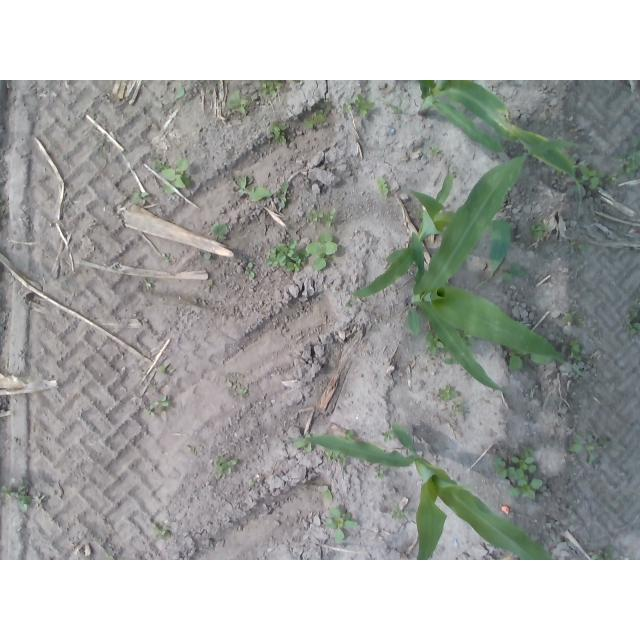Maize: (407, 141, 597, 399), (293, 425, 556, 560), (349, 163, 515, 301), (416, 80, 584, 212)
Weeds: (494, 446, 542, 500), (264, 240, 309, 273), (154, 157, 192, 195), (306, 234, 338, 272), (325, 507, 359, 542), (569, 158, 605, 191), (249, 183, 289, 210), (616, 141, 640, 179), (569, 433, 598, 464), (343, 93, 376, 118), (304, 100, 331, 129), (304, 207, 336, 229), (424, 329, 450, 356), (557, 339, 583, 362), (214, 456, 238, 480), (227, 89, 249, 115), (500, 263, 528, 283), (145, 396, 172, 416), (12, 485, 32, 511), (508, 348, 529, 372), (234, 175, 256, 197), (624, 306, 640, 336), (528, 218, 552, 238), (258, 81, 283, 100), (455, 326, 477, 347), (267, 120, 287, 143), (563, 308, 586, 328), (161, 87, 185, 105), (324, 447, 346, 466), (295, 434, 314, 454), (382, 98, 402, 115), (437, 385, 457, 402), (590, 546, 614, 560), (211, 223, 229, 241), (152, 522, 171, 539), (391, 507, 410, 522), (450, 401, 467, 417), (375, 177, 389, 196), (132, 191, 149, 206), (319, 485, 334, 501), (606, 173, 621, 187), (372, 467, 386, 481), (33, 492, 47, 505), (381, 430, 396, 442), (245, 262, 256, 278), (570, 242, 589, 251), (344, 429, 355, 443), (1, 486, 12, 499), (444, 357, 461, 365), (556, 168, 569, 178), (157, 363, 168, 374), (428, 145, 440, 155), (105, 554, 121, 560), (146, 280, 155, 290), (161, 253, 169, 263), (188, 447, 197, 455), (344, 301, 354, 308), (241, 388, 248, 398), (204, 253, 213, 260), (249, 481, 256, 488), (207, 279, 213, 285)
